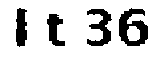3: (81, 4, 113, 50)
6: (116, 7, 149, 52)
l: (11, 4, 32, 53)
t: (40, 9, 71, 50)
